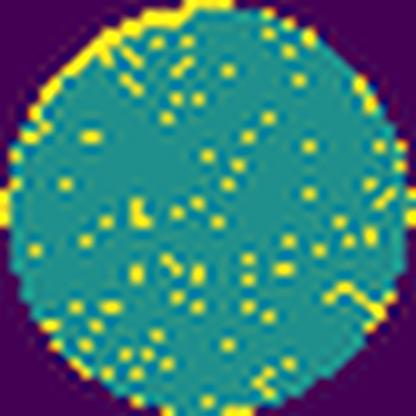Edge-Loc: (6, 0, 236, 170), (322, 280, 402, 344)
